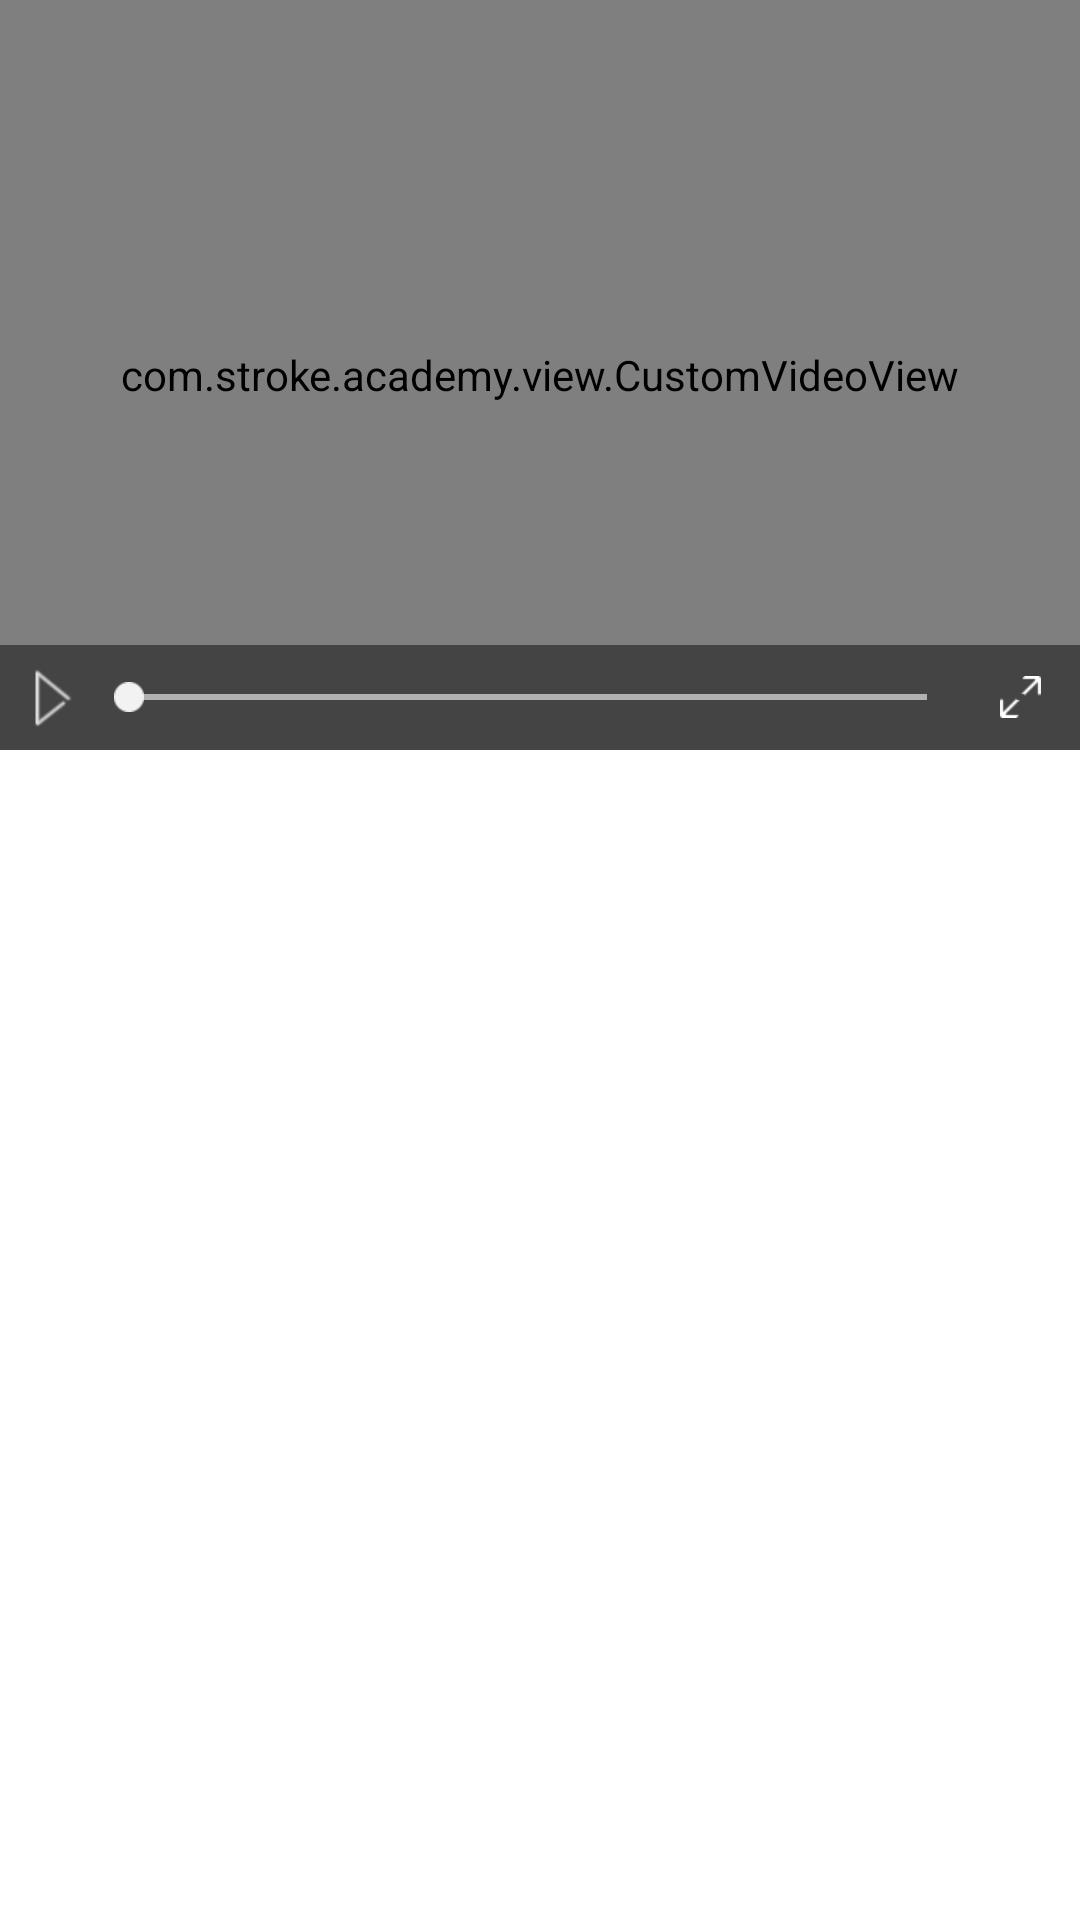

Icon bounding boxes for this 1080×1920 phone screenshot, format (left=x1, top=y1, right=x2, bottom=y2):
dict full screen video: (left=1000, top=676, right=1041, bottom=718)
dict video play: (left=35, top=670, right=71, bottom=726)
